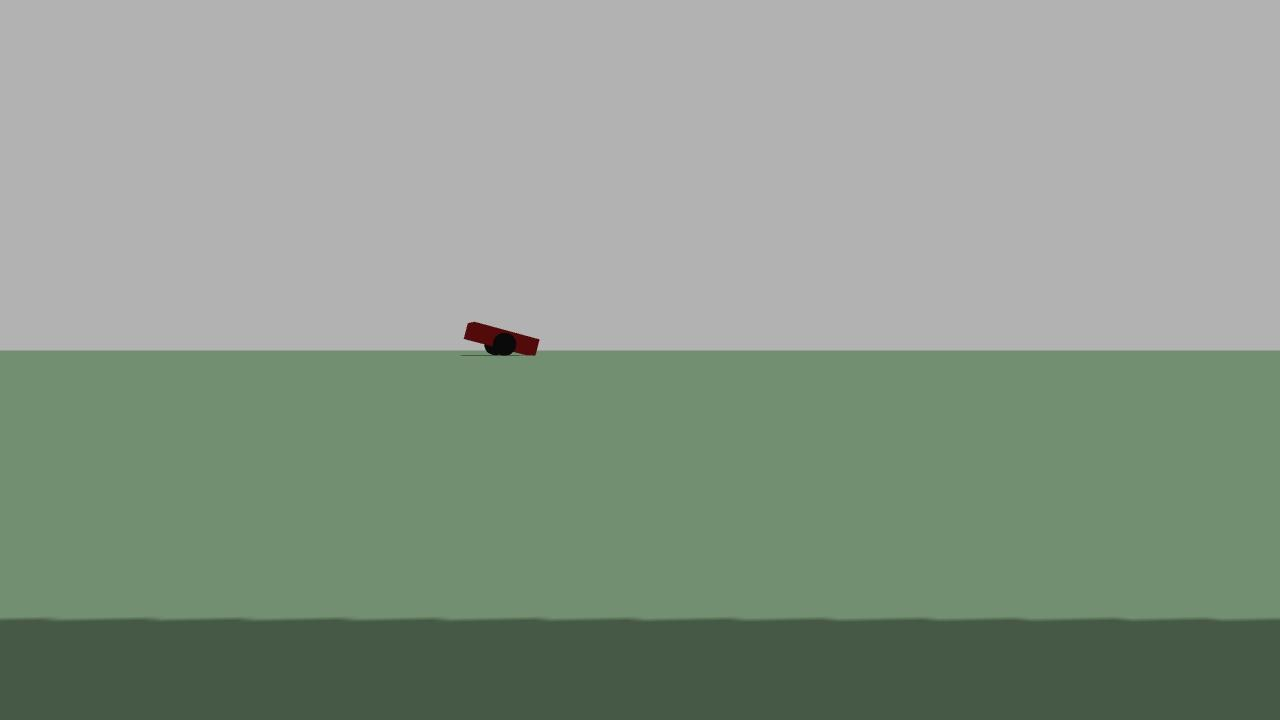ground_vehicle: (461, 311, 545, 363)
